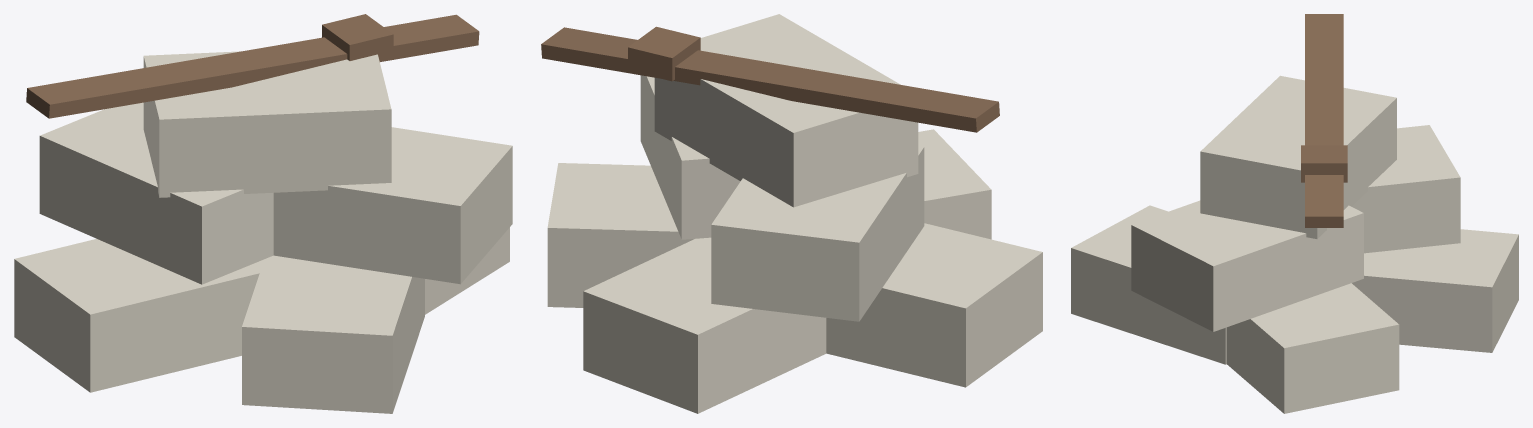
The picture shows the model from 3 angles, left to right: view 1: azimuth 30°, elevation 25°; view 2: azimuth 150°, elevation 25°; view 3: azimuth 270°, elevation 25°; orthographic projection. The views are drawn at different scales.
Visible parts, largest first — view 1: ballast-sandbags; view 2: ballast-sandbags; view 3: ballast-sandbags.
Part boxes in pixels (<box>): ballast-sandbags: <box>14,14,512,413</box>; ballast-sandbags: <box>541,14,1042,413</box>; ballast-sandbags: <box>1071,14,1518,413</box>.
Size of the model in its own units: 1.02 by 0.5591 by 1.05.
